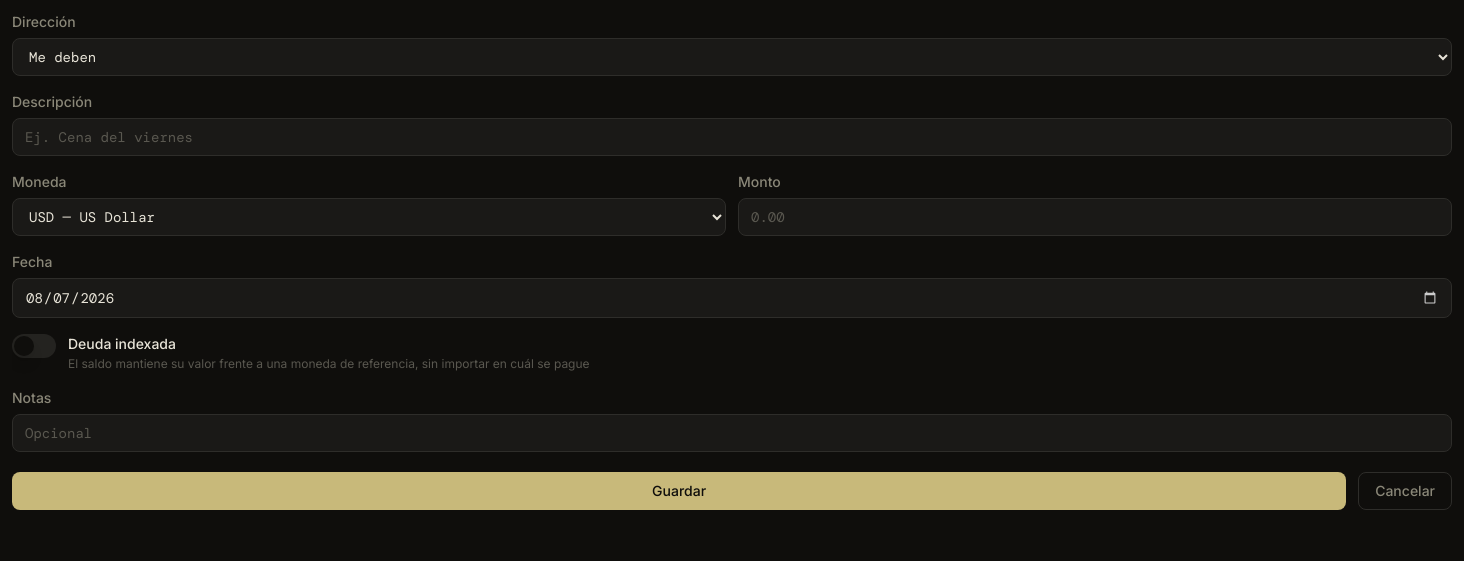
PersonalDebtForm › shows validation error when amount is zero
Type "Cena" into the field labelled "Descripción".
click(732, 137); type("Cena")  # box [12,118,1452,156]
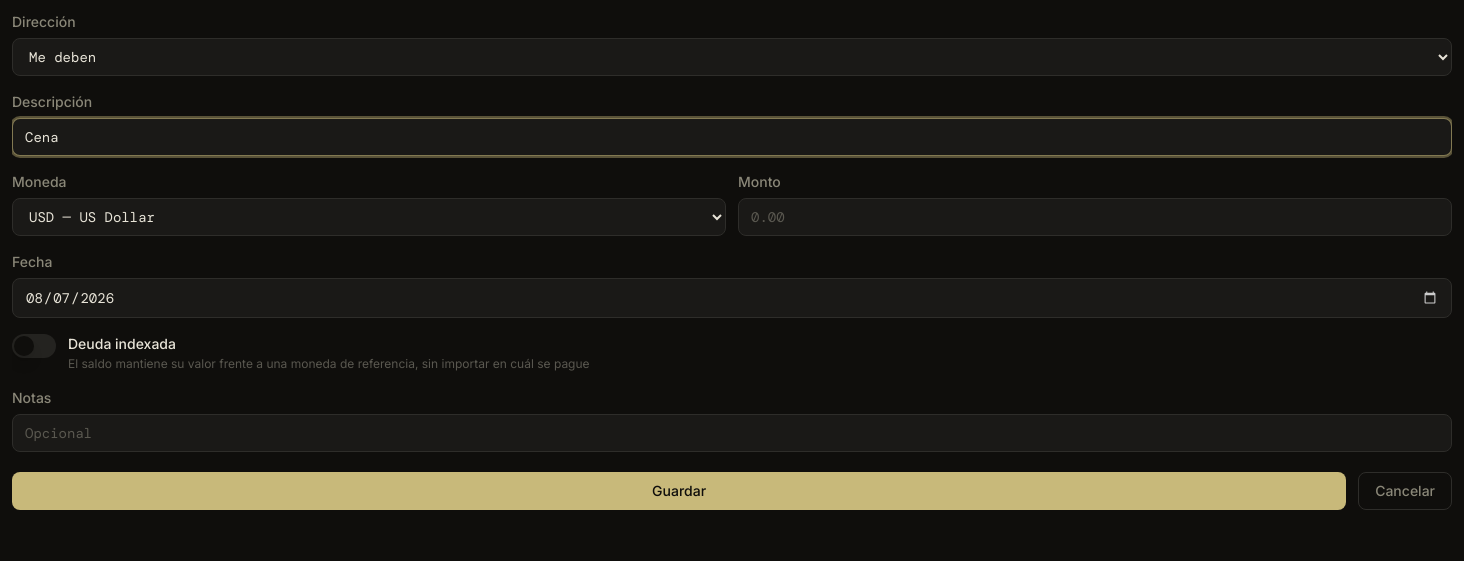
Click the button "Guardar".
click(679, 491)  # box [12,472,1346,510]
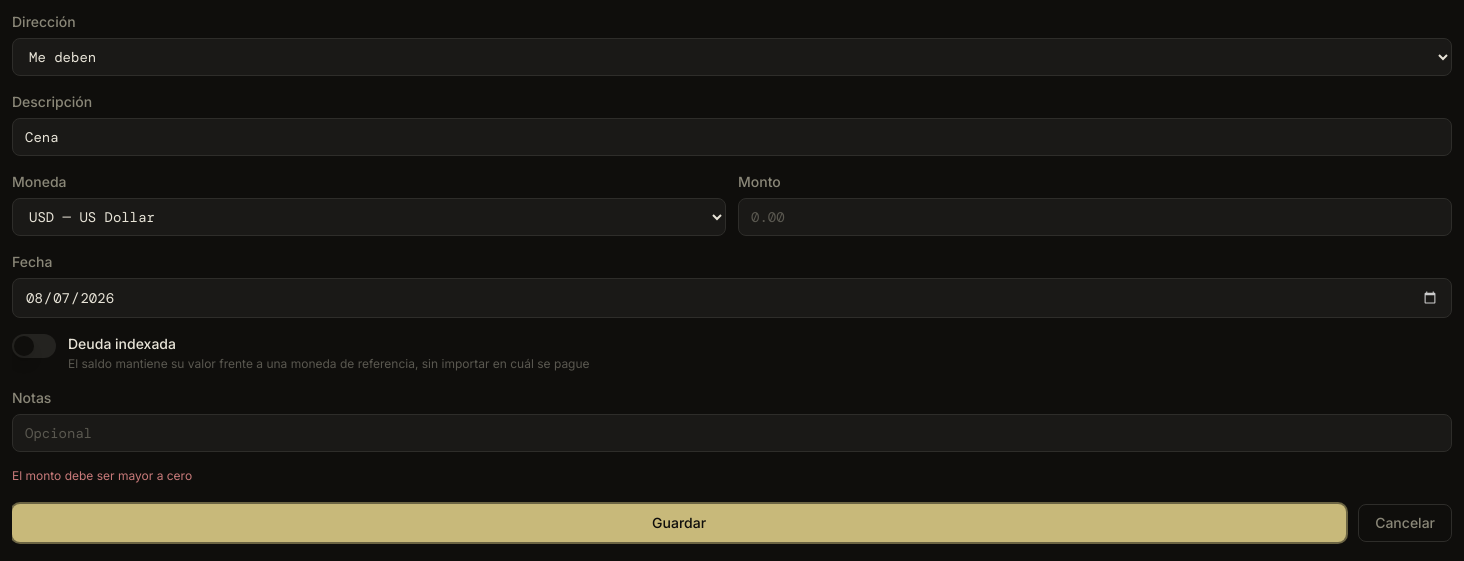
Now the text "El monto debe ser mayor a cero" is shown, box [12,468,192,483]
